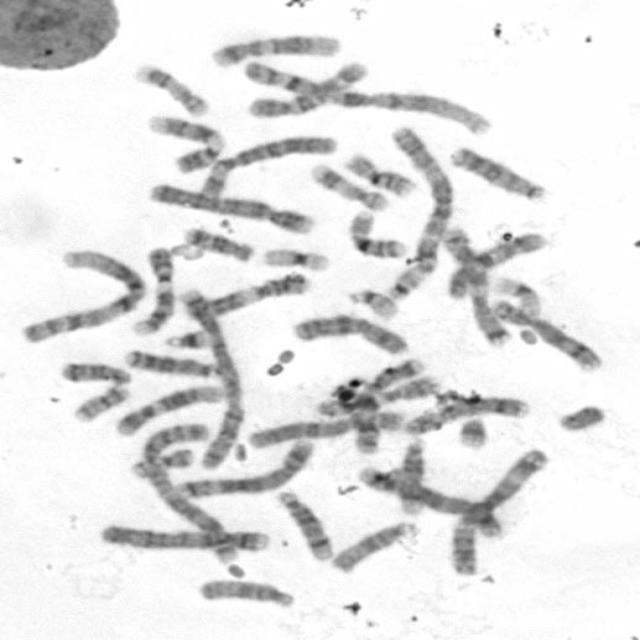A1: (238, 57, 495, 137), (15, 244, 150, 344)
A2: (138, 416, 238, 564), (175, 283, 248, 470)
A3: (443, 444, 551, 577), (389, 127, 463, 274)
B4: (145, 178, 318, 237), (94, 519, 272, 554)
B5: (354, 463, 506, 539), (169, 435, 317, 499)
C10: (241, 57, 369, 121), (441, 227, 548, 300)
C11: (180, 268, 310, 320), (318, 376, 454, 417)
C12: (110, 380, 227, 438), (205, 31, 343, 68)
C6: (194, 131, 340, 200), (243, 406, 406, 450)
C7: (436, 222, 512, 349), (348, 356, 431, 456)
C8: (487, 296, 604, 373), (400, 389, 532, 436)
C9: (142, 110, 225, 174), (125, 244, 178, 337)
D13: (444, 143, 546, 202), (121, 346, 218, 379)
D14: (272, 486, 336, 563), (398, 434, 428, 518)
D15: (327, 518, 421, 575), (196, 576, 297, 610)
E16: (340, 149, 418, 198), (343, 206, 408, 260)
E17: (130, 60, 212, 119), (307, 161, 390, 212)
E18: (178, 223, 256, 263), (56, 359, 132, 385)
F19: (489, 273, 542, 318), (258, 245, 330, 272)
F20: (70, 381, 132, 423), (126, 445, 196, 478)
G21: (452, 413, 493, 451), (161, 326, 213, 351)
G22: (384, 258, 442, 304), (344, 285, 400, 320)
X: (287, 310, 410, 357)
Y: (552, 401, 607, 433)
